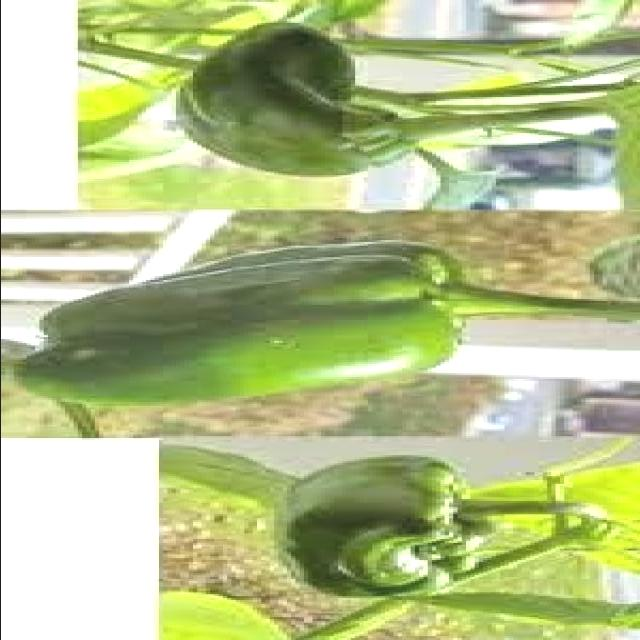bell_pepper: (6, 241, 486, 415), (140, 13, 440, 187), (237, 458, 513, 605)
